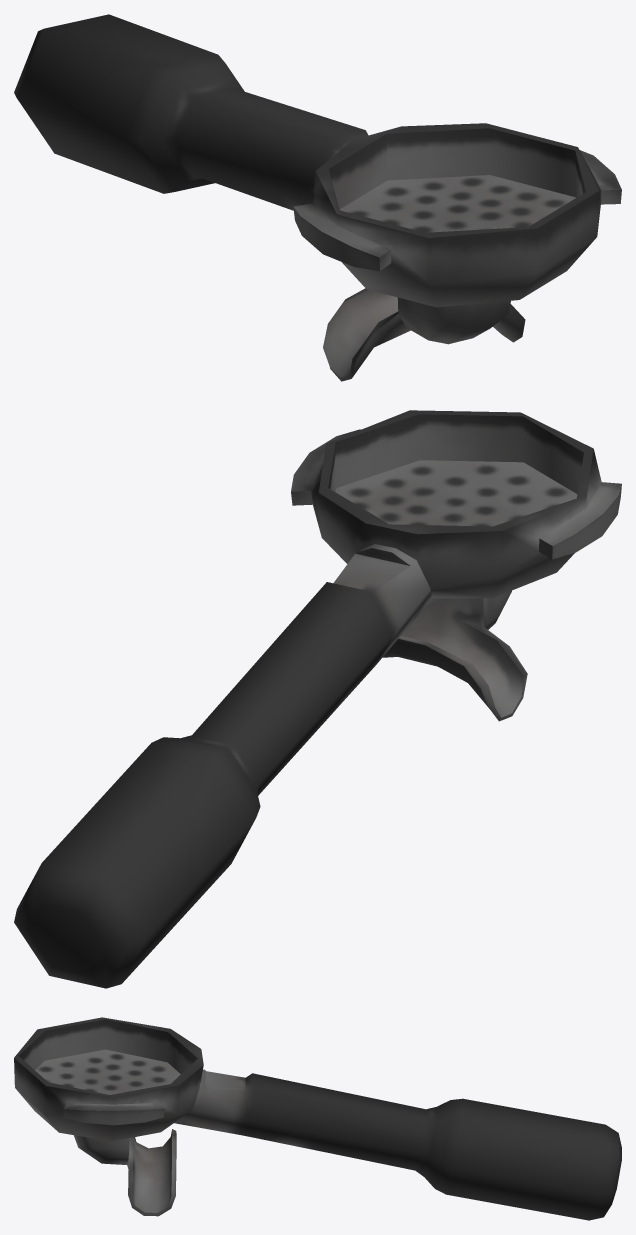
Rendered from Old Filter Basket.glb.
The picture shows the model from 3 angles, top to bottom: view 1: azimuth 30°, elevation 25°; view 2: azimuth 150°, elevation 25°; view 3: azimuth 270°, elevation 25°; orthographic projection. The views are drawn at different scales.
Visible parts, largest first — view 1: OldFilterBasket; view 2: OldFilterBasket; view 3: OldFilterBasket.
Part boxes in pixels (x1,y1,x2,y2): OldFilterBasket: (14, 14, 621, 381); OldFilterBasket: (14, 410, 621, 988); OldFilterBasket: (14, 1017, 621, 1220).
Bounding box in the file's own units: 0.0752 × 0.0607 × 0.2146.
1 material, 1 textured.
